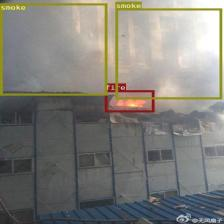fire: (104, 90, 154, 112)
smoke: (115, 8, 222, 99), (0, 3, 106, 94)
